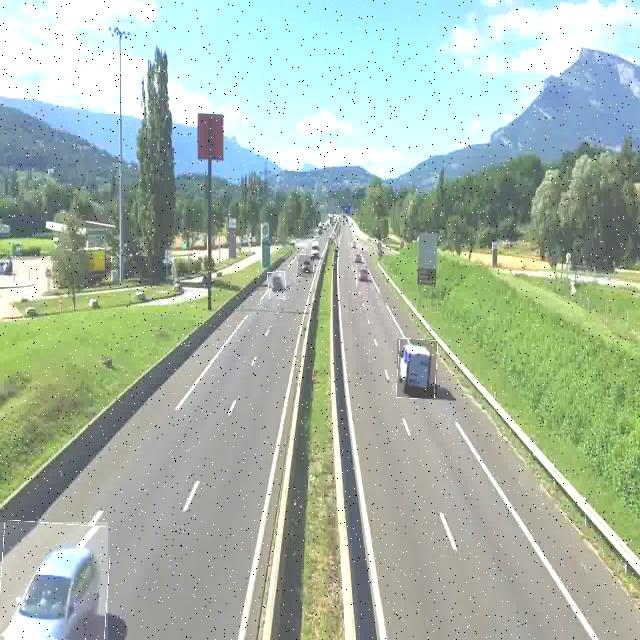Car: (0, 522, 108, 640), (267, 272, 286, 299), (297, 255, 314, 278), (356, 263, 371, 287)
Truck: (397, 339, 437, 398)
